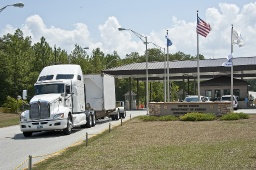truck: (19, 62, 128, 137)
